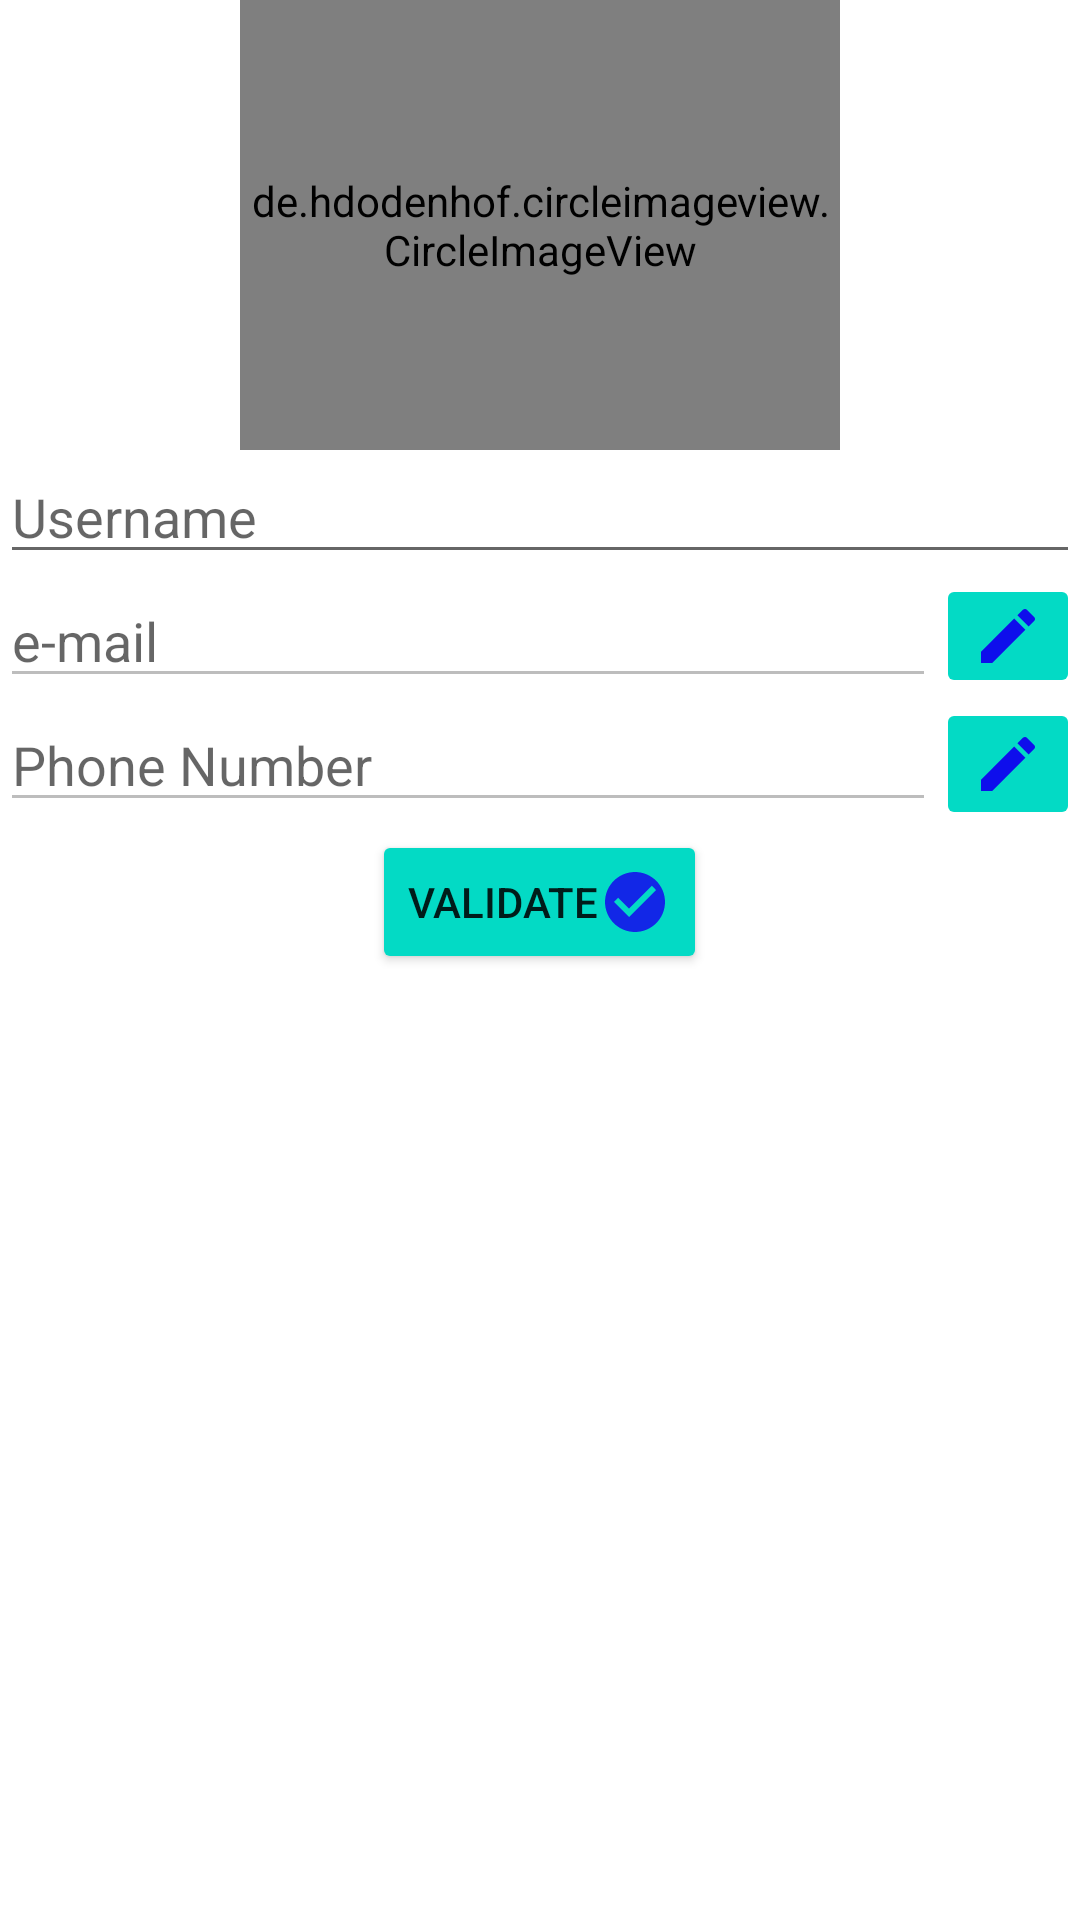

Screen size 1080*1920. Icon name, then its center in pixels as (x=x, y=y):
modify: (x=1008, y=636), (x=1008, y=764)
